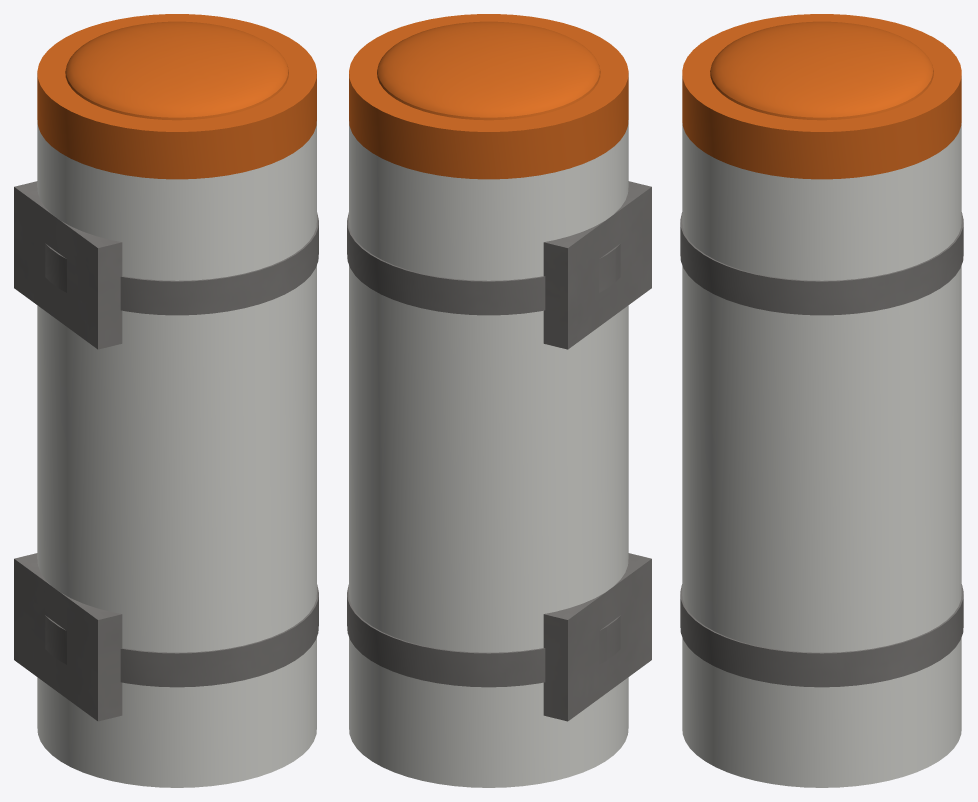
The model's file is stage17_radial_recovery_chute_m.glb.
The picture shows the model from 3 angles, left to right: view 1: azimuth 30°, elevation 25°; view 2: azimuth 150°, elevation 25°; view 3: azimuth 270°, elevation 25°; orthographic projection.
Parts seen in each view (by area): view 1: canister, lid, saddle, bands; view 2: canister, lid, saddle, bands; view 3: canister, lid, bands.
Part boxes in pixels (x1,y1,x2,y2): canister: [37, 120, 316, 787]; lid: [37, 14, 316, 179]; saddle: [14, 181, 122, 721]; bands: [45, 212, 318, 687]; canister: [349, 120, 628, 787]; lid: [349, 14, 628, 179]; saddle: [543, 181, 651, 721]; bands: [347, 212, 620, 687]; canister: [682, 123, 961, 787]; lid: [682, 14, 961, 179]; bands: [680, 212, 963, 687].
Size of the model in its own units: 0.6074 by 1.6 by 0.6077.
3 materials, 1 textured.
